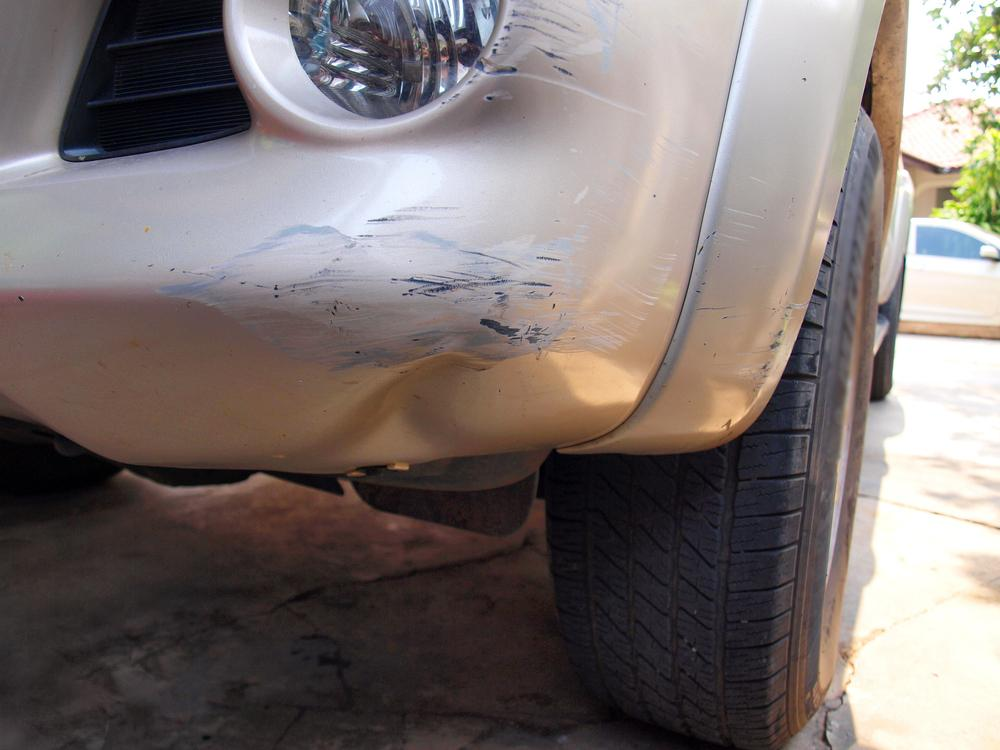dent: (343, 357, 483, 461)
scratch: (155, 202, 679, 375), (466, 0, 638, 105), (720, 294, 802, 388)
